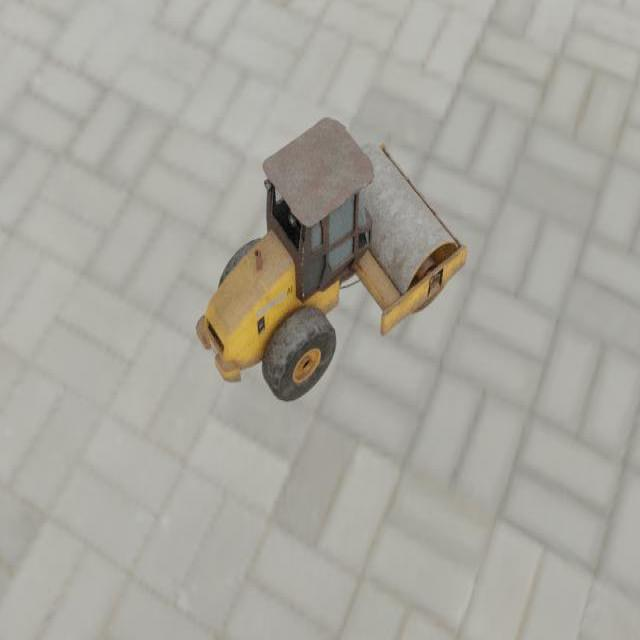Roller: (195, 116, 468, 401)
